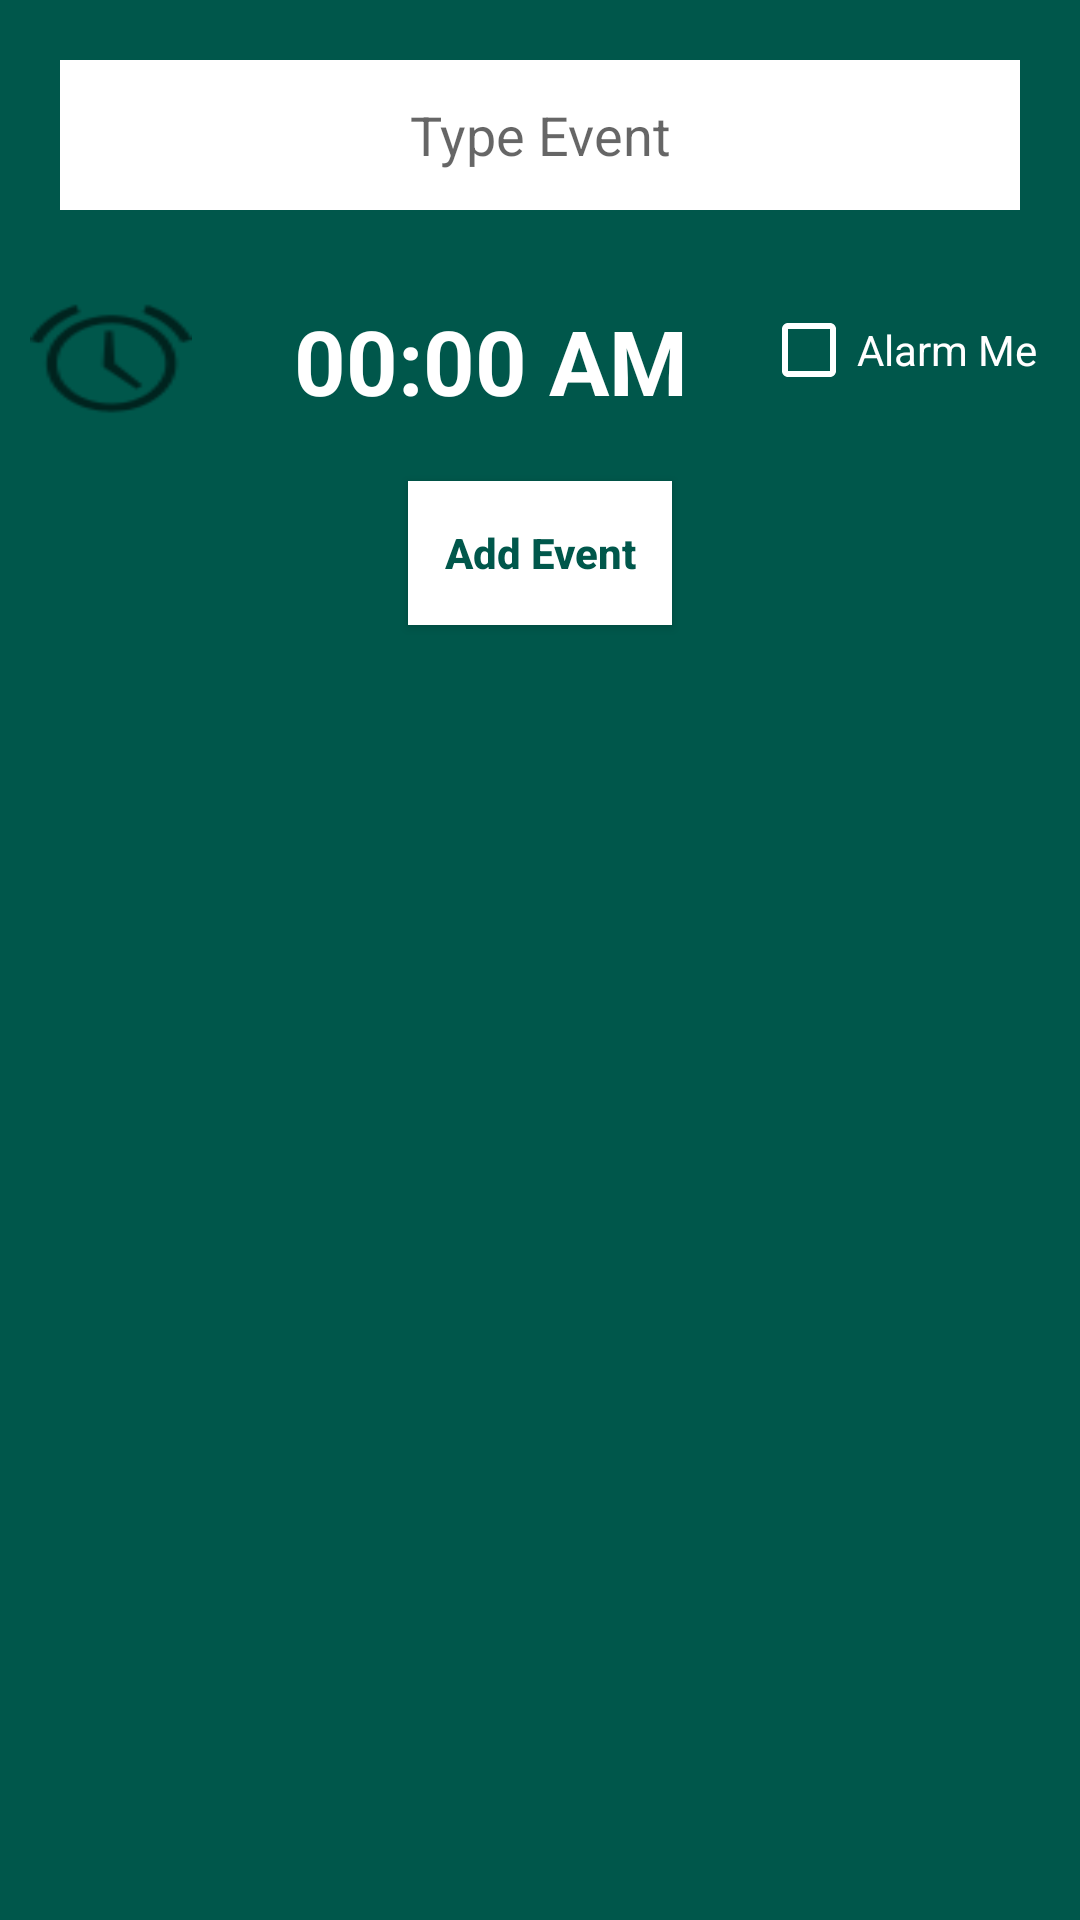

Locate icon controls on the screen. Image size 1080px x 1920px, boxes as (x1, y1, x2, y2).
lock idle alarm: (30, 305, 192, 412)
